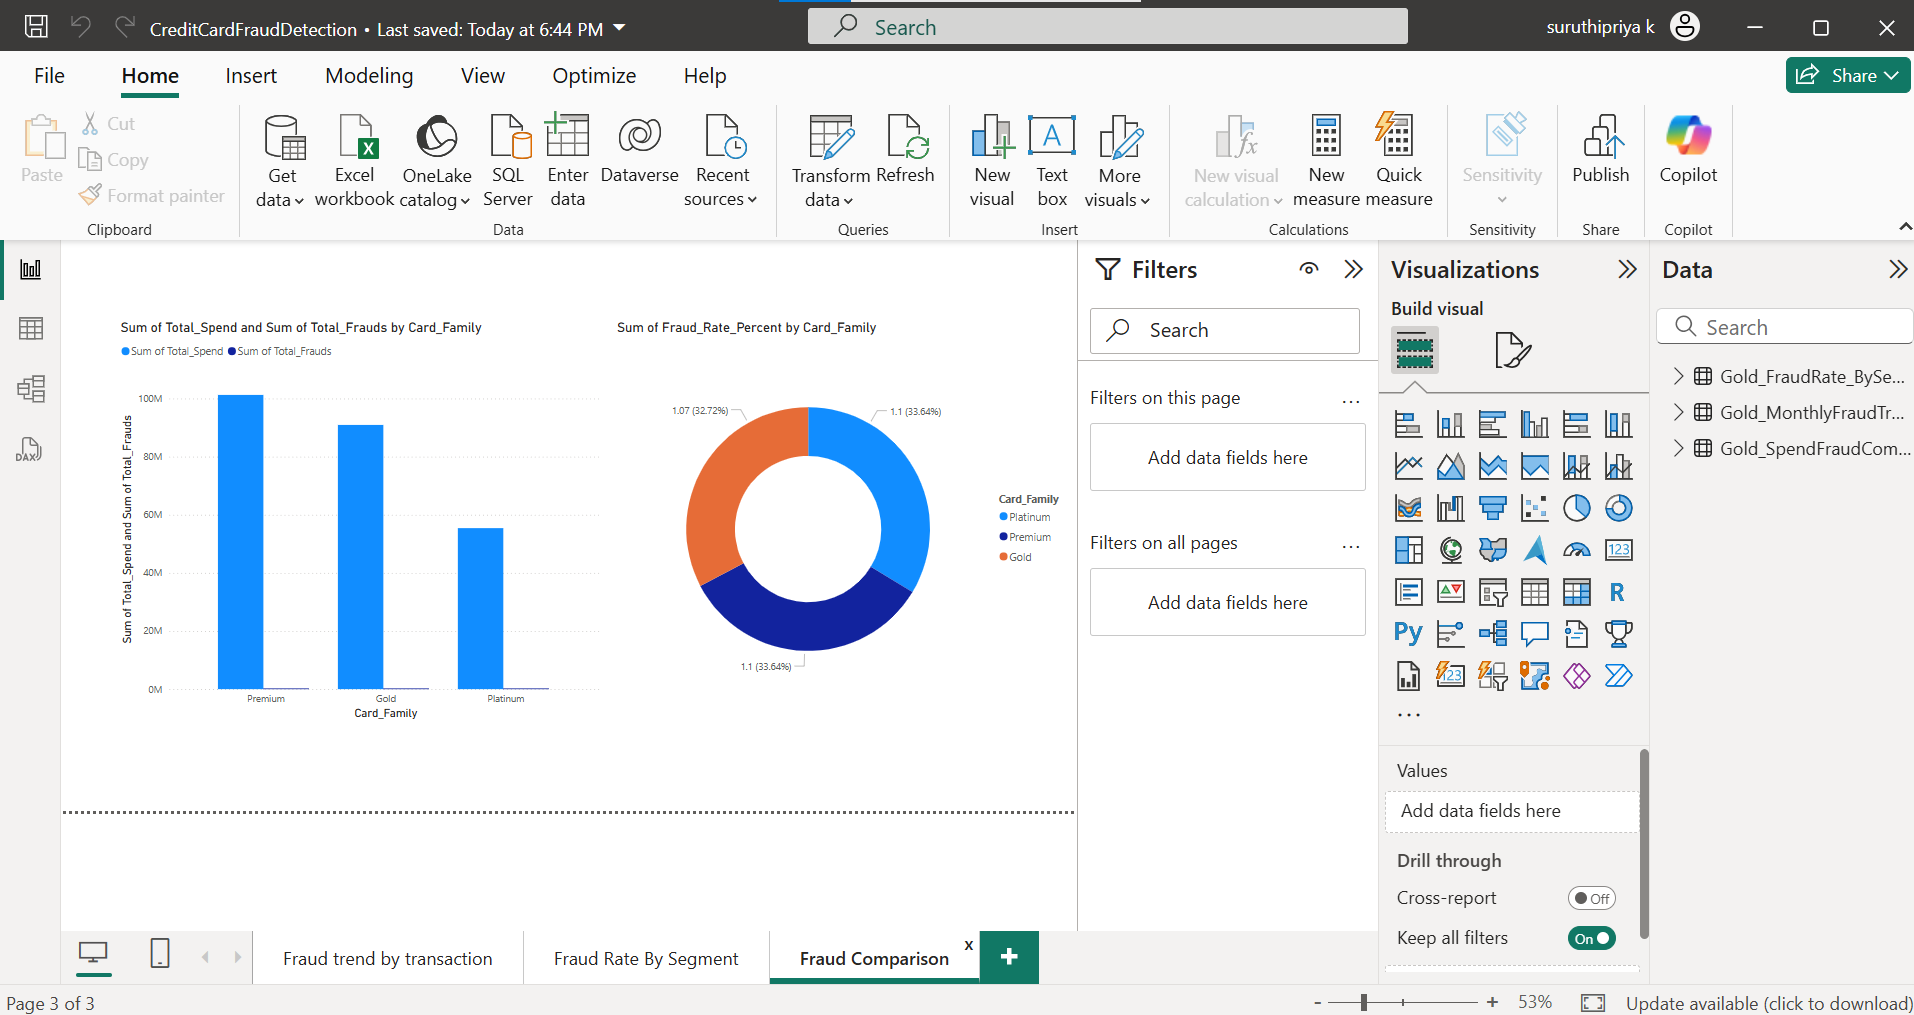

Layout of this report page (visuals, bound fields, positions):
{"tool":"powerbi","page":{"name":"Fraud Comparison","canvas":[1280,720],"ordinal":2},"visuals":[{"type":"clusteredColumnChart","fields":{"Category":["Gold_SpendFraudComparison.Card_Family"],"Y":["Sum(Gold_SpendFraudComparison.Total_Spend)","Sum(Gold_SpendFraudComparison.Total_Frauds)"]},"box":[69.9,100.2,616.1,508.4],"z":0},{"type":"donutChart","fields":{"Category":["Gold_SpendFraudComparison.Card_Family"],"Y":["Sum(Gold_SpendFraudComparison.Fraud_Rate_Percent)"]},"box":[696,100,584,508],"z":1}]}

Visuals, with their boxes on the page's 1280x720 design canvas (x1, y1, x2, y2). These are canvas units, not pixel positions in the 1914x1015 screenshot, which may show the page scaled, cropped or inside an application window:
clusteredColumnChart - Gold_SpendFraudComparison.Card_Family x Sum(Gold_SpendFraudComparison.Total_Spend): locate(70, 100, 686, 609)
donutChart - Gold_SpendFraudComparison.Card_Family x Sum(Gold_SpendFraudComparison.Fraud_Rate_Percent): locate(696, 100, 1280, 608)
